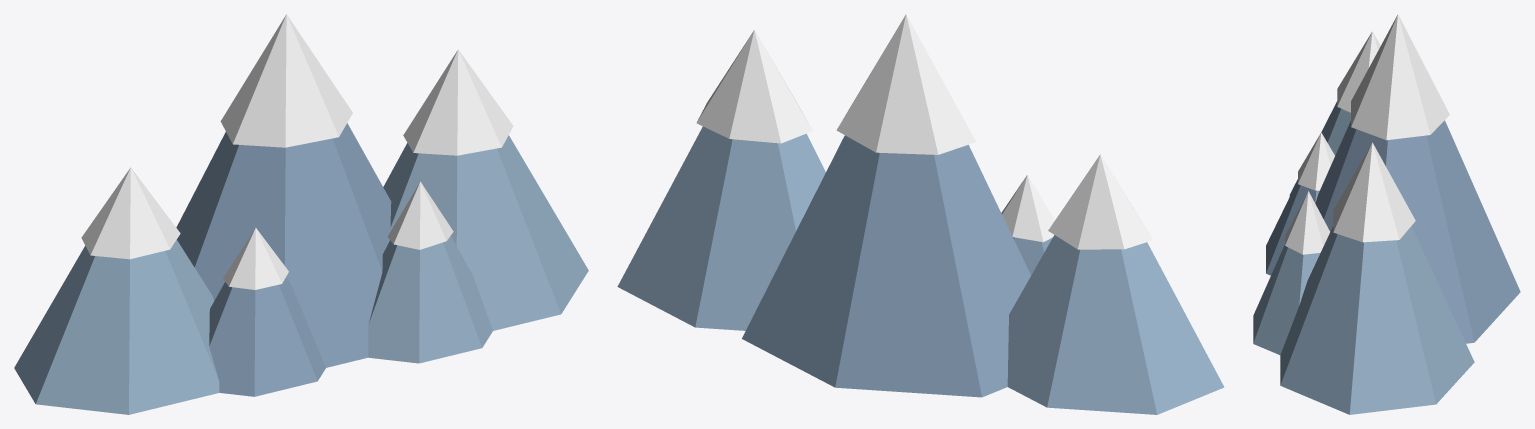
Rendered from mountains.glb.
3 views of the same model, side by side, from view 1: azimuth 30°, elevation 25°; view 2: azimuth 150°, elevation 25°; view 3: azimuth 270°, elevation 25° (orthographic). The views are drawn at different scales.
Parts seen in each view (by area): view 1: mountains; view 2: mountains; view 3: mountains.
Boxes of the visible parts, bbox=[...] form: mountains: bbox=[14, 14, 588, 414]; mountains: bbox=[617, 14, 1224, 414]; mountains: bbox=[1253, 14, 1520, 414].
Size of the model in its own units: 45.52 by 24 by 20.92.
